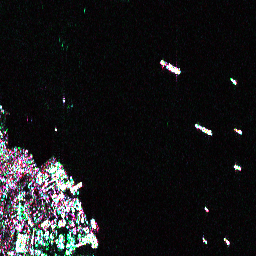ship: (157, 57, 182, 77), (191, 121, 214, 137), (220, 234, 232, 247), (226, 75, 238, 87), (231, 126, 244, 137), (199, 234, 210, 247), (201, 204, 212, 215), (231, 162, 243, 172)
